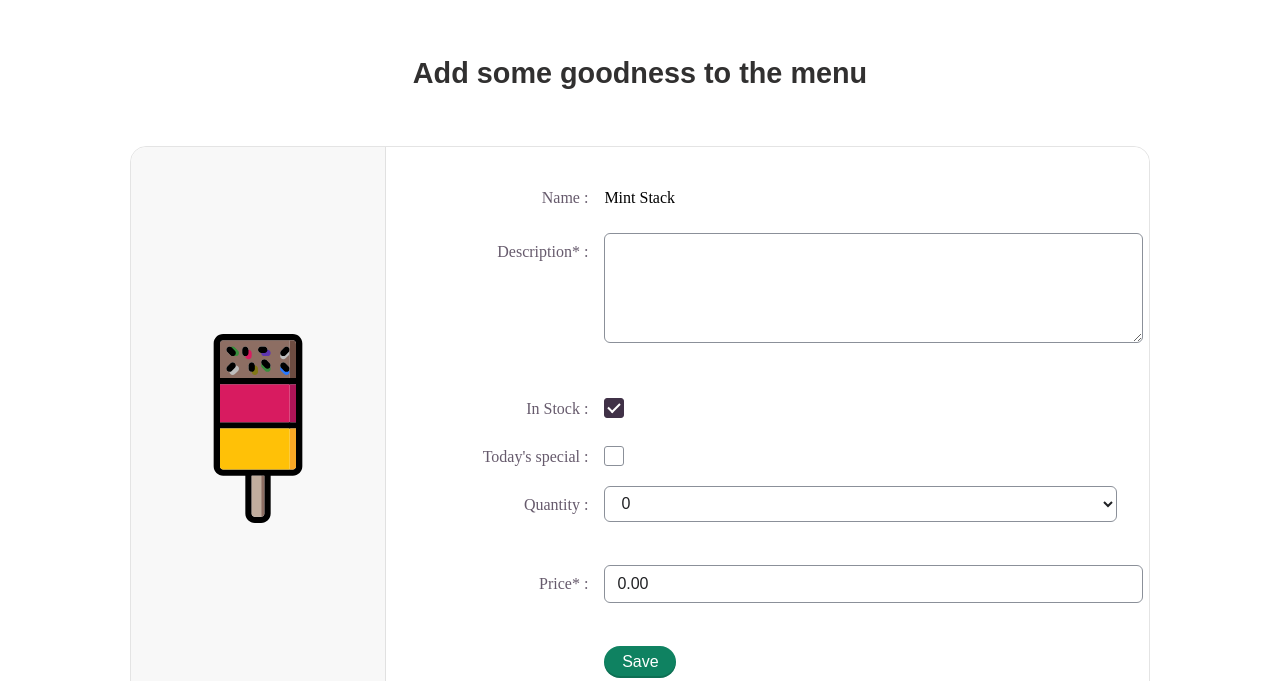
a failed save or delete › keeps the add form and shows an alert
Step 1. Type "Cool" into the text box labelled "Description* :" → {"x": 874, "y": 288}, box [604,233,1143,343]
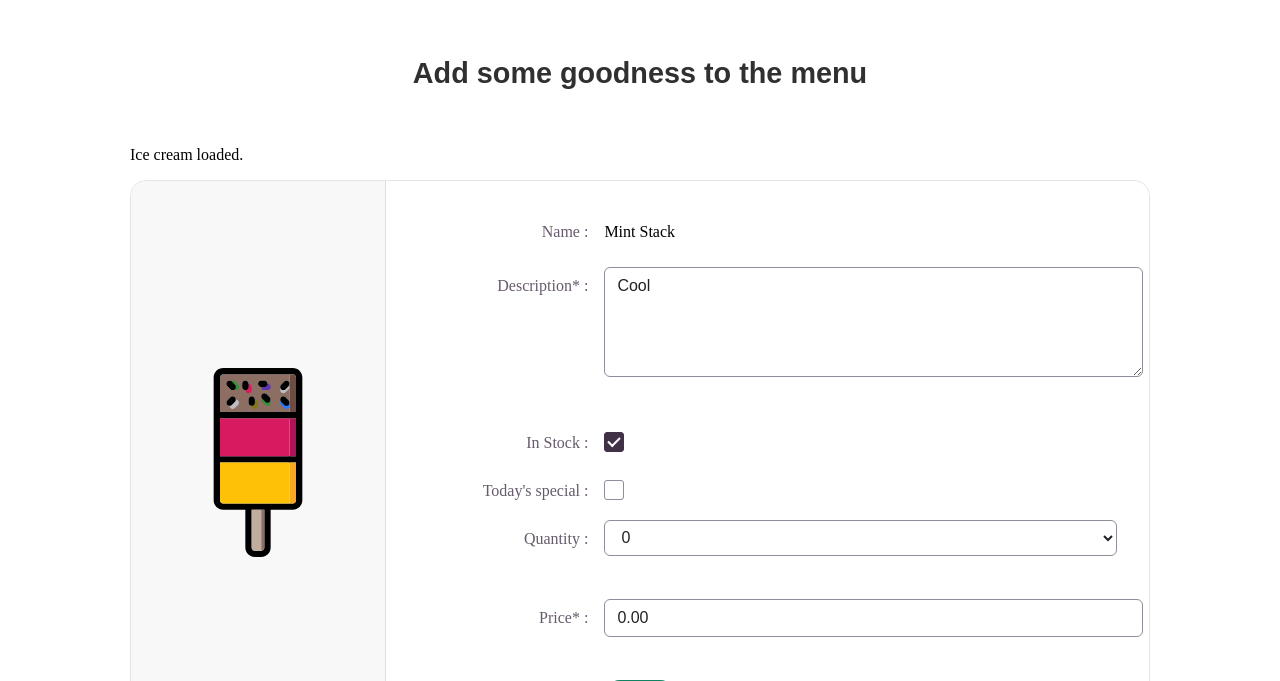
Step 2. Select "10" in the dropdown labelled "Quantity :" → {"x": 861, "y": 538}, box [604,520,1117,556]
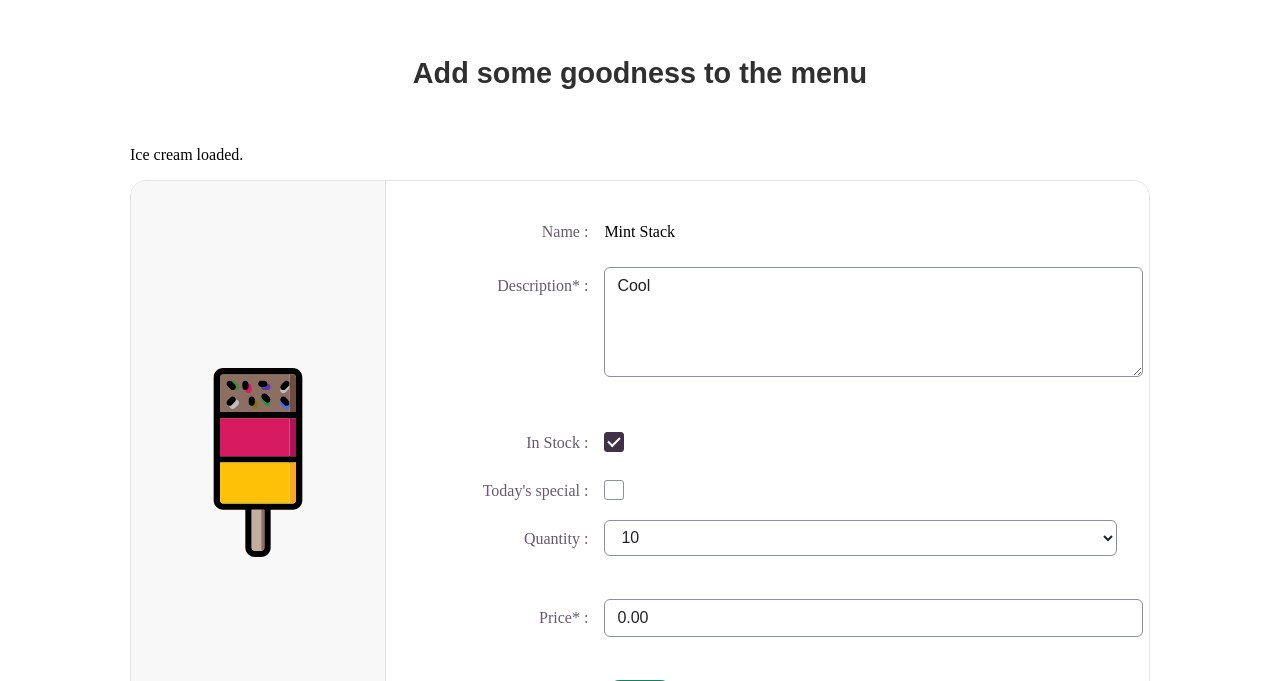
Step 3. Replace the text in the number field labelled "Price* :" with "2.50" → {"x": 874, "y": 618}, box [604,599,1143,637]
(page scrolled)
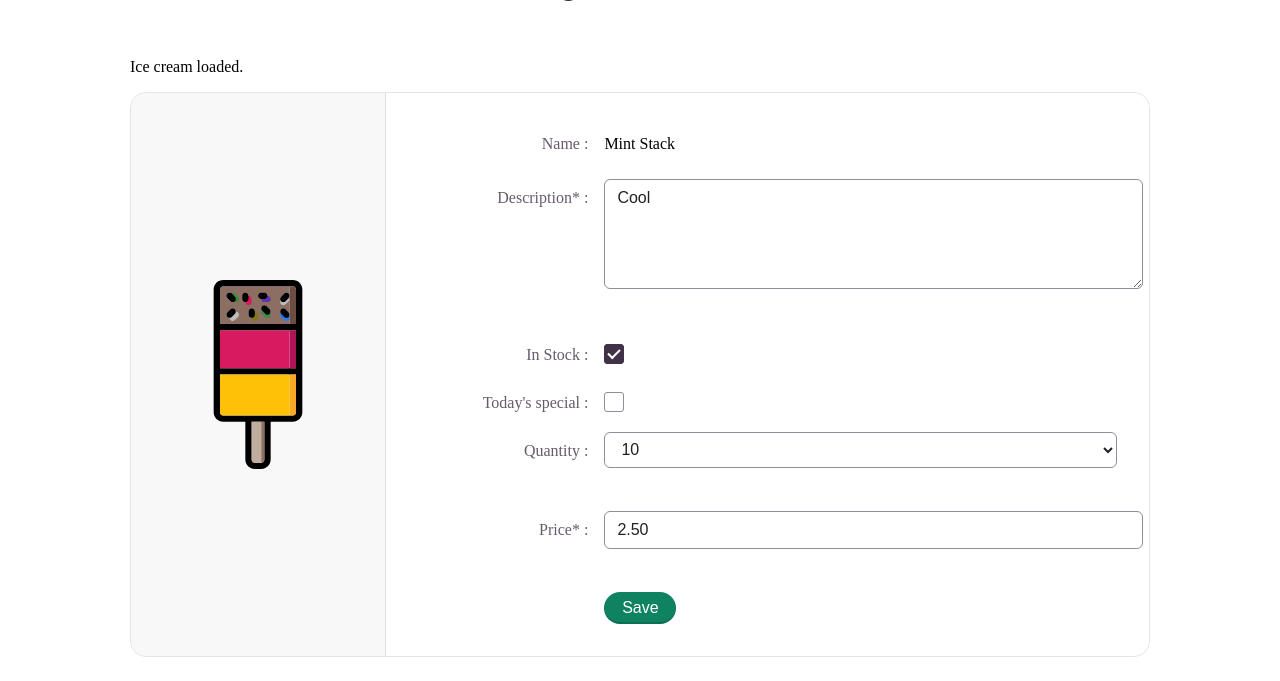
Step 4. Click the button "Save" → {"x": 640, "y": 608}, box [604,592,676,624]
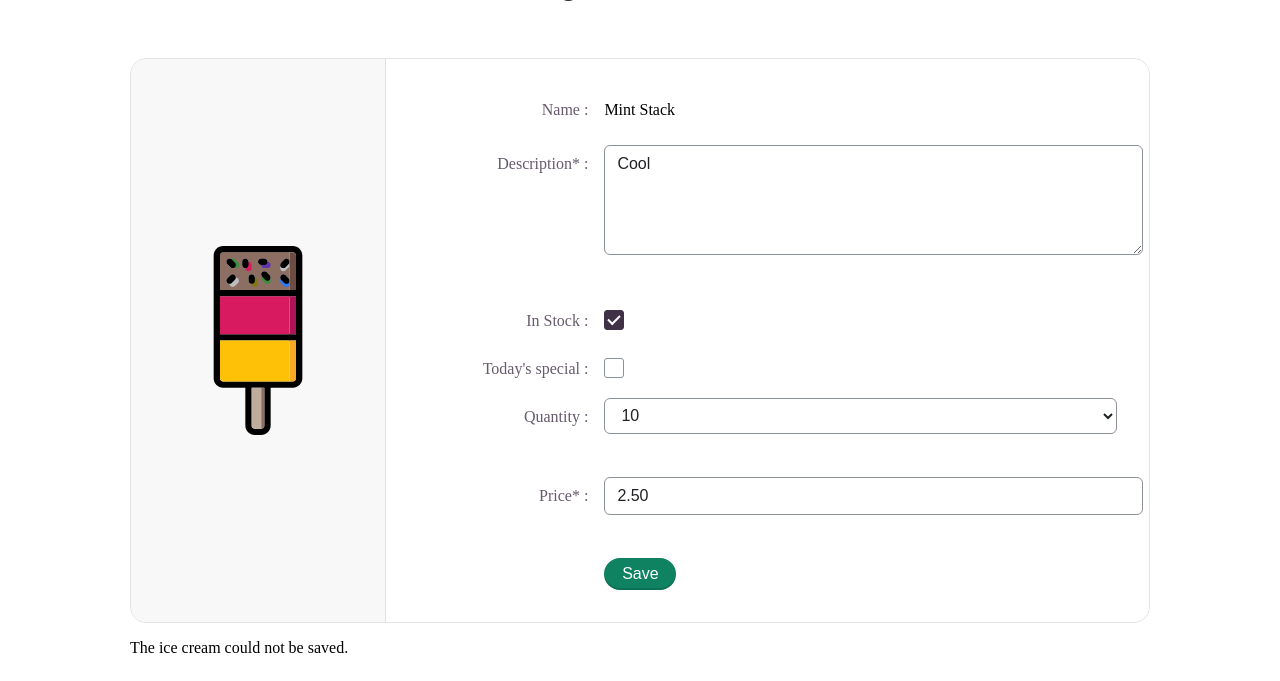
Expected: the button "Save" is shown, [604,558,676,590]
Now the message "The ice cream could not be saved." is shown, box [130,639,348,656]
